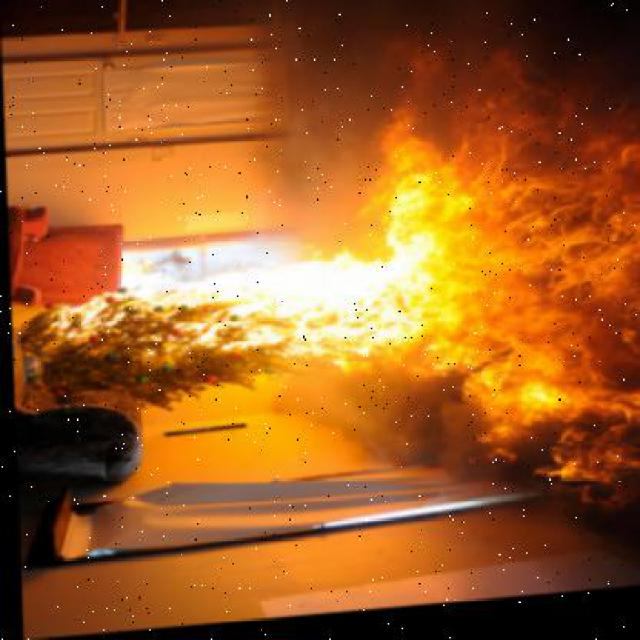fire: (87, 30, 640, 550)
